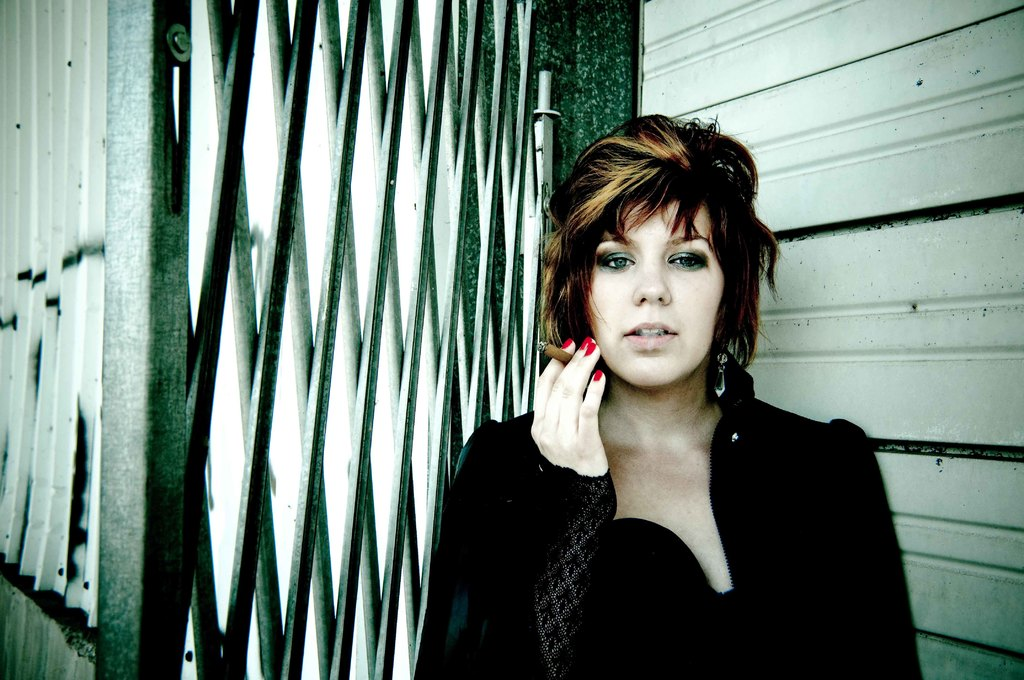Human-face: (585, 204, 726, 384)
